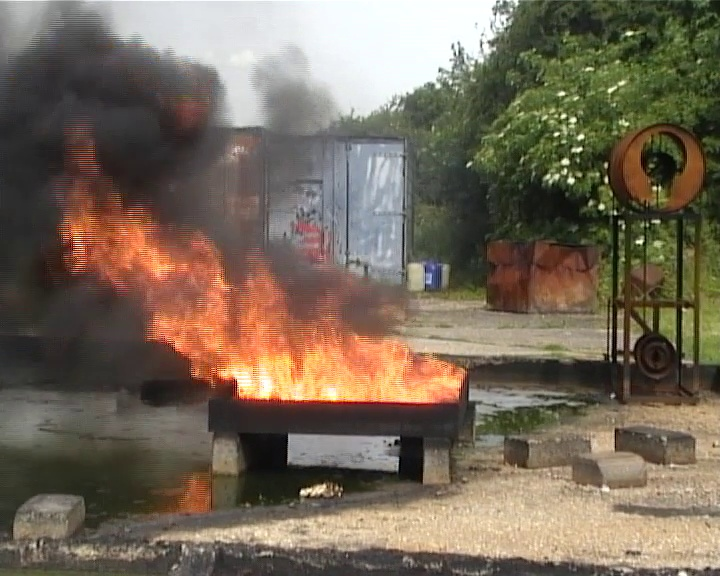fire: (67, 215, 463, 399)
